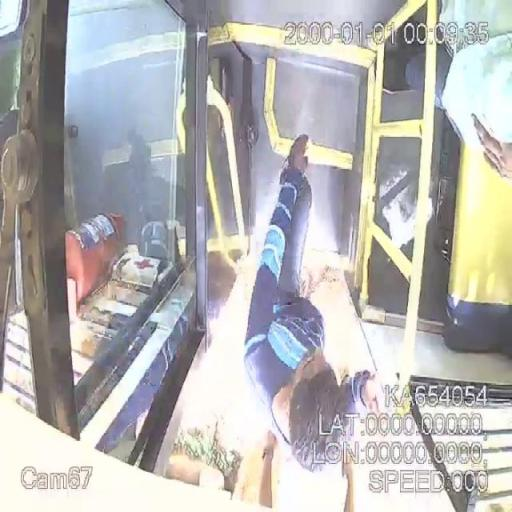persona: (242, 132, 382, 508)
